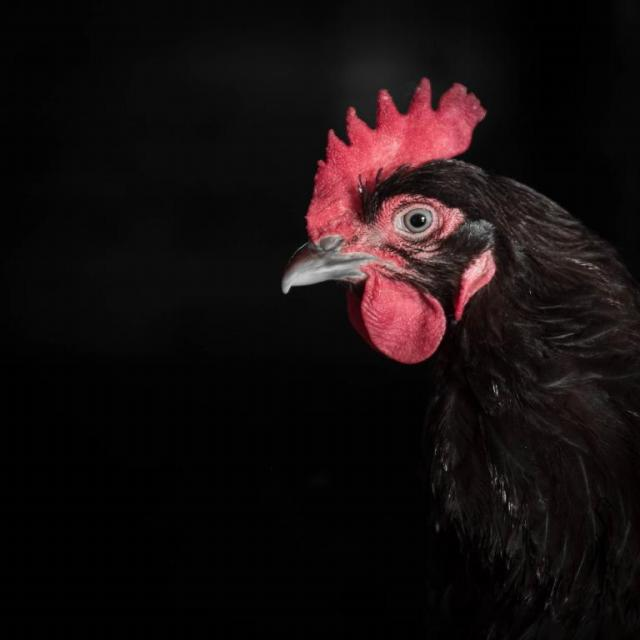Chicken: (281, 76, 639, 640)
